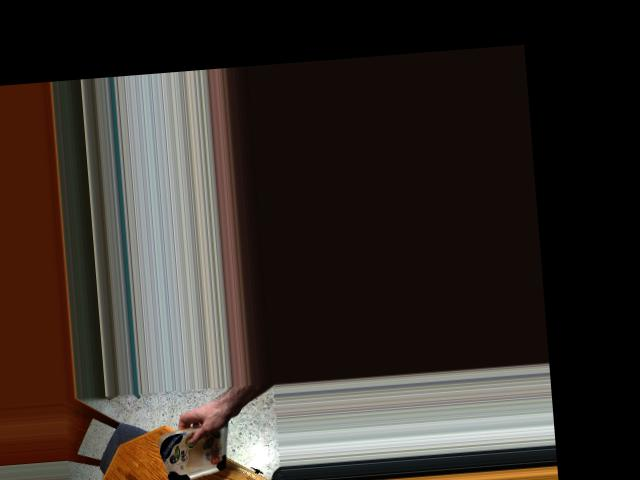cheese: (154, 419, 243, 480)
